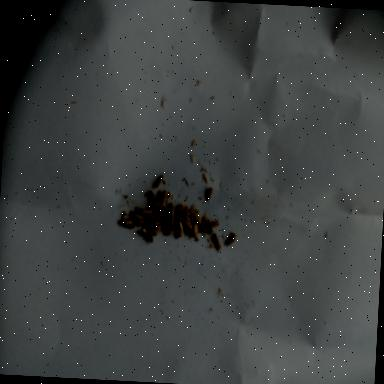pbw: (174, 216, 186, 238), (210, 230, 222, 250), (146, 190, 160, 206), (116, 214, 134, 225), (188, 223, 200, 239), (153, 170, 164, 187), (150, 221, 162, 236), (204, 184, 214, 201), (140, 224, 152, 236), (144, 209, 158, 219), (226, 231, 236, 245), (134, 213, 146, 223), (141, 207, 153, 215)
